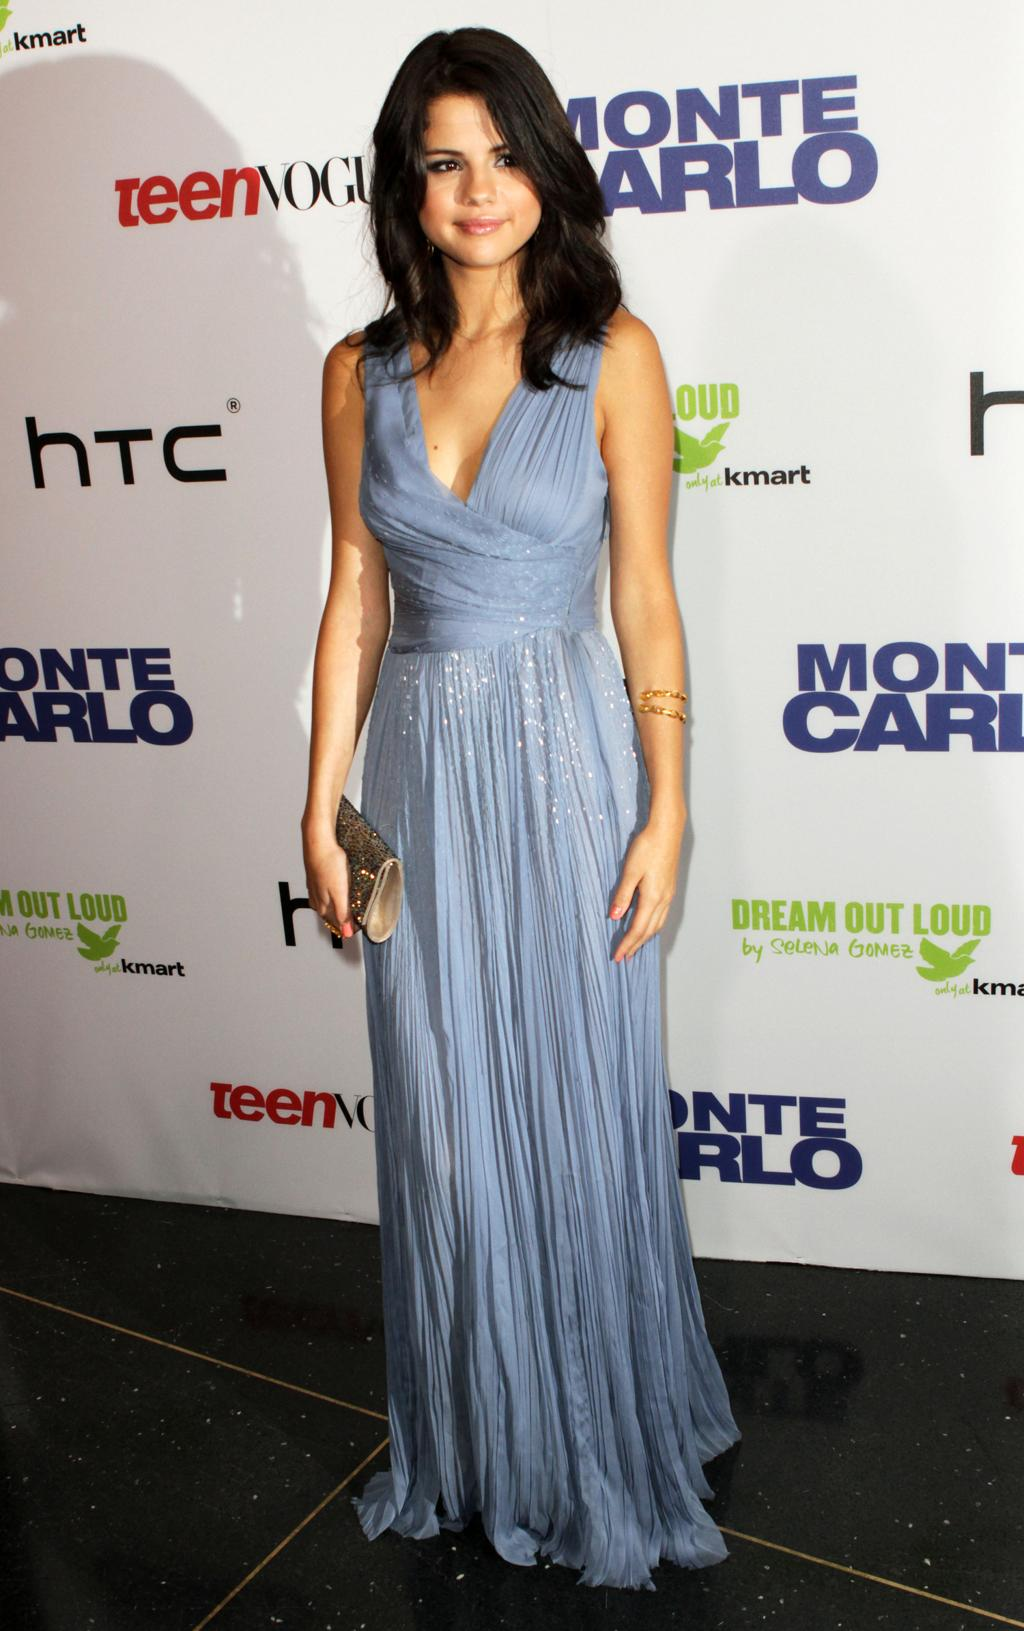face: (412, 83, 543, 265)
